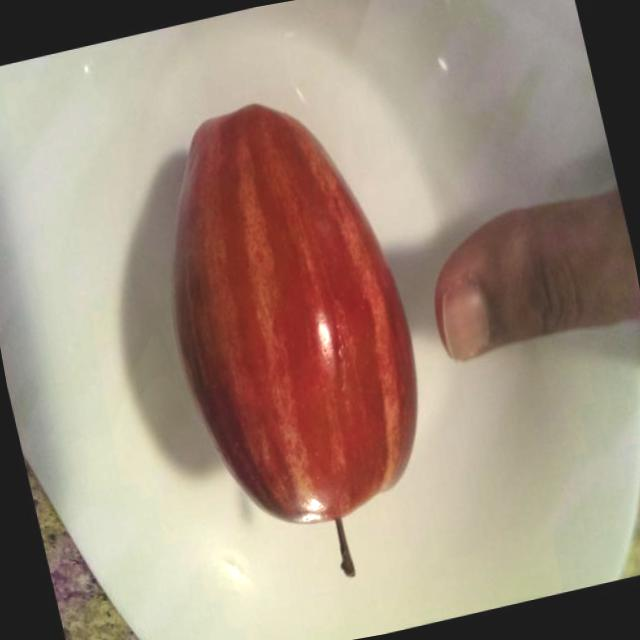Apple: (110, 60, 477, 622)
Finger: (404, 182, 609, 382)
